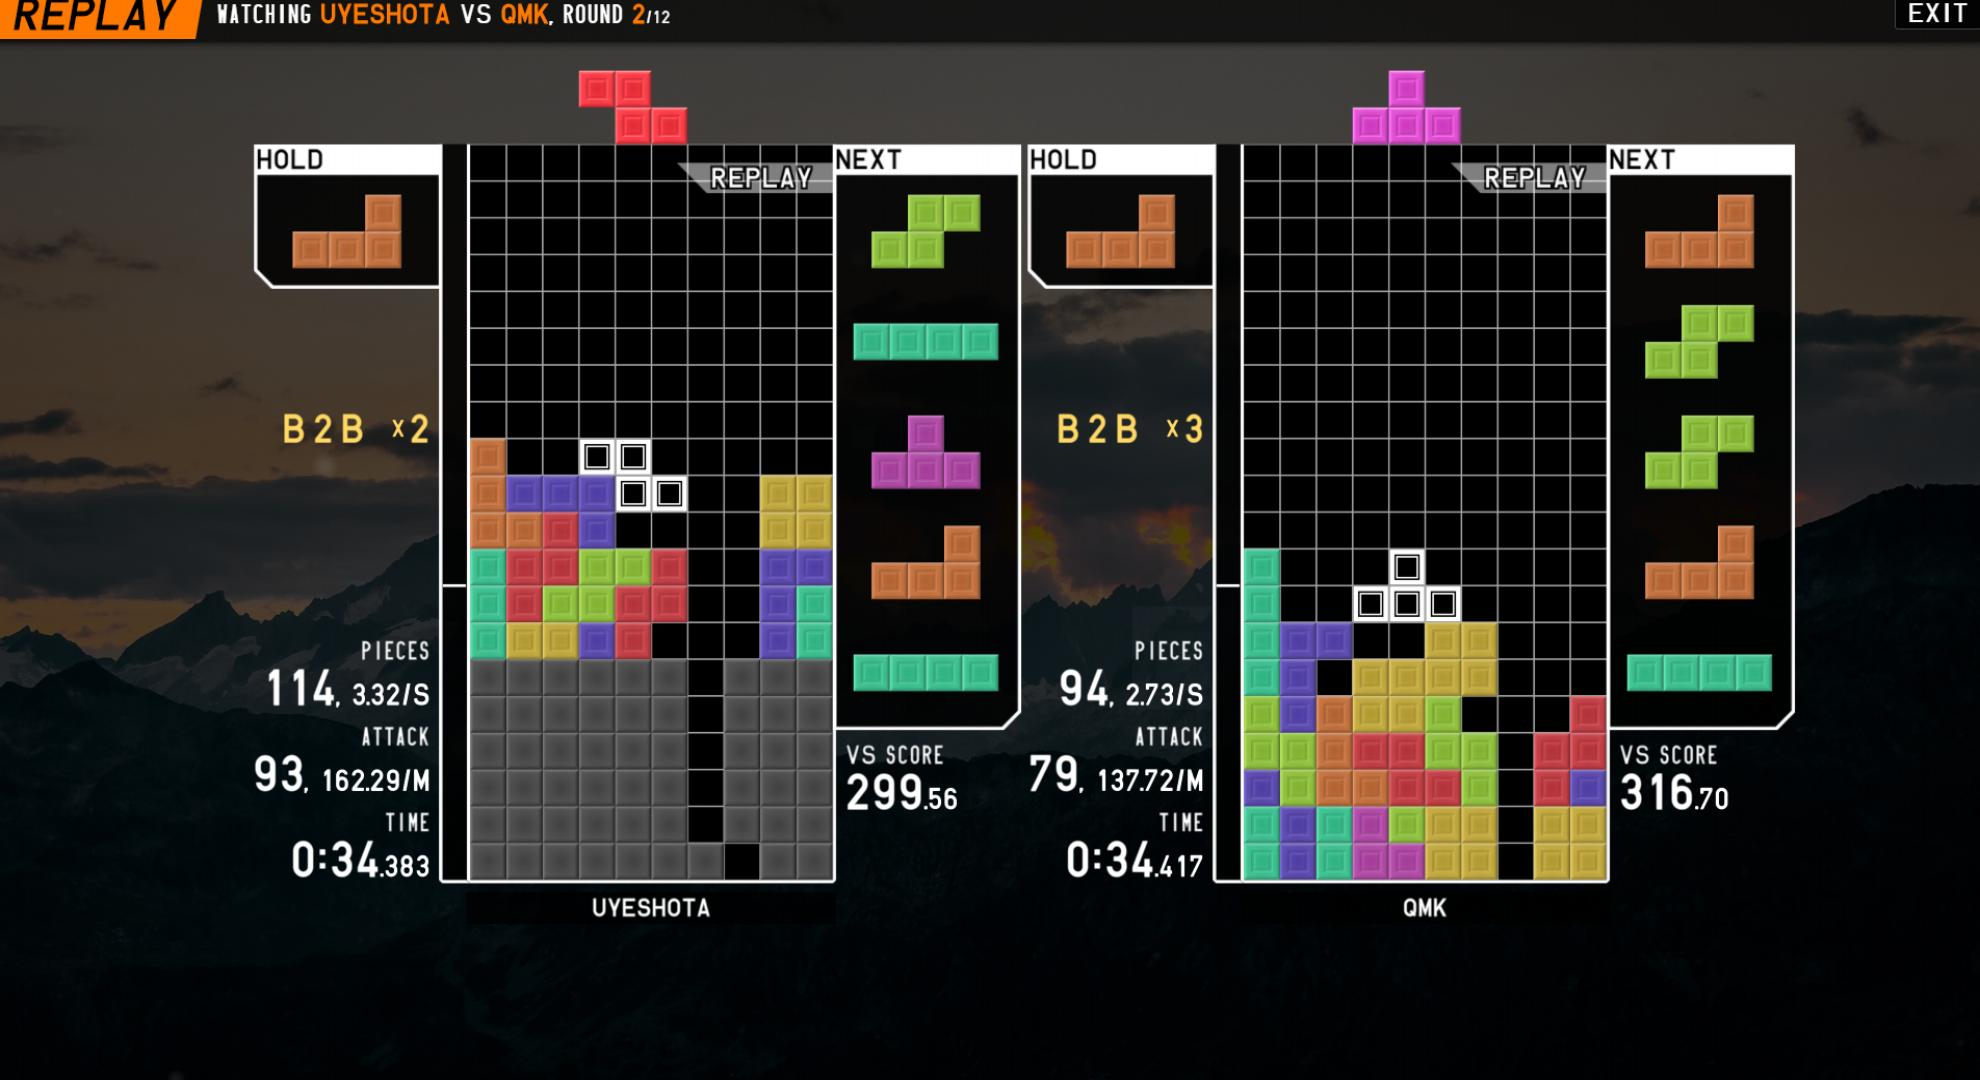tspin: (648, 577, 766, 701), (1457, 650, 1573, 771)
